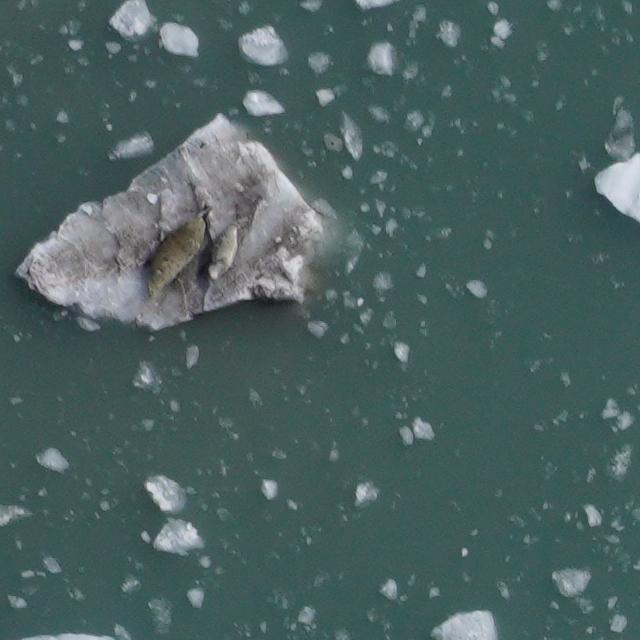seal: (127, 199, 232, 299), (206, 221, 241, 284)
